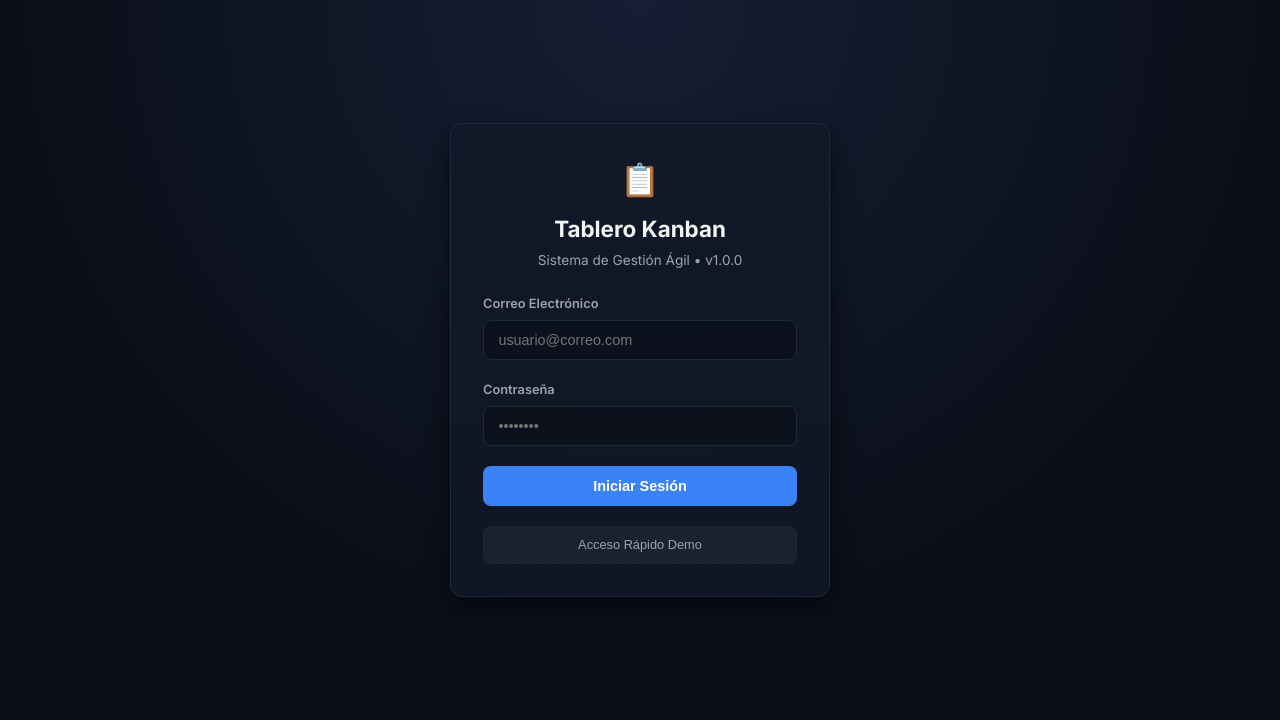
Test case: Tablero Kanban › muestra un error visible al intentar agregar una tarea vacía
The width and height of the screenshot is (1280, 720).
Click the button "Acceso Rápido Demo" at {"x": 640, "y": 545}, box [483, 526, 797, 564]
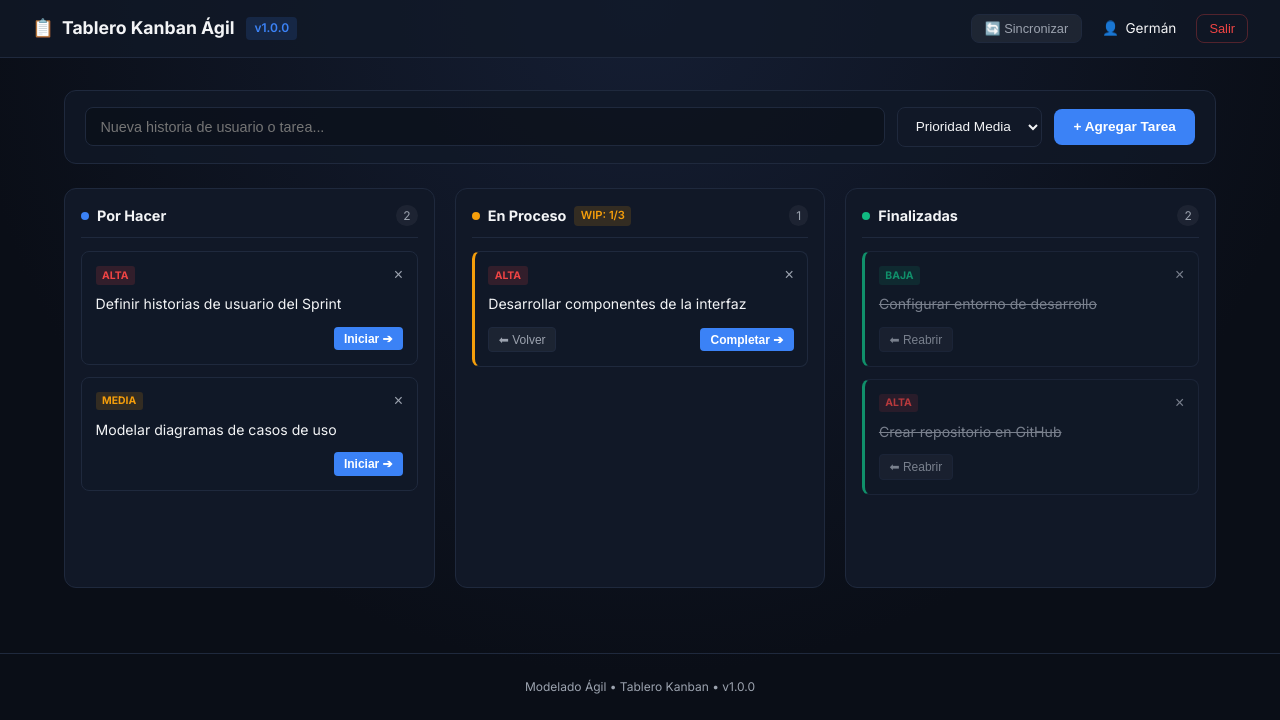
Click the button "+ Agregar Tarea" at {"x": 1125, "y": 127}, box [1054, 109, 1195, 145]
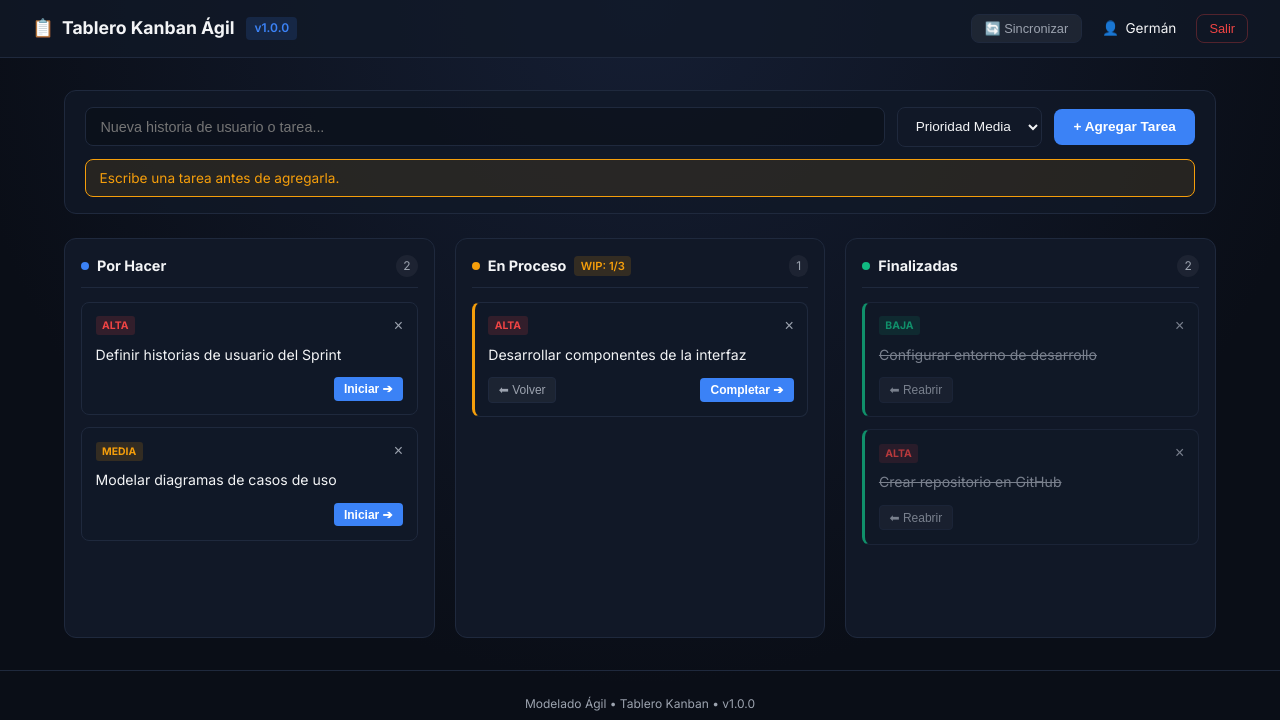
expect the message reads "Escribe una tarea antes de agregarla.": met, box [100, 170, 339, 186]
